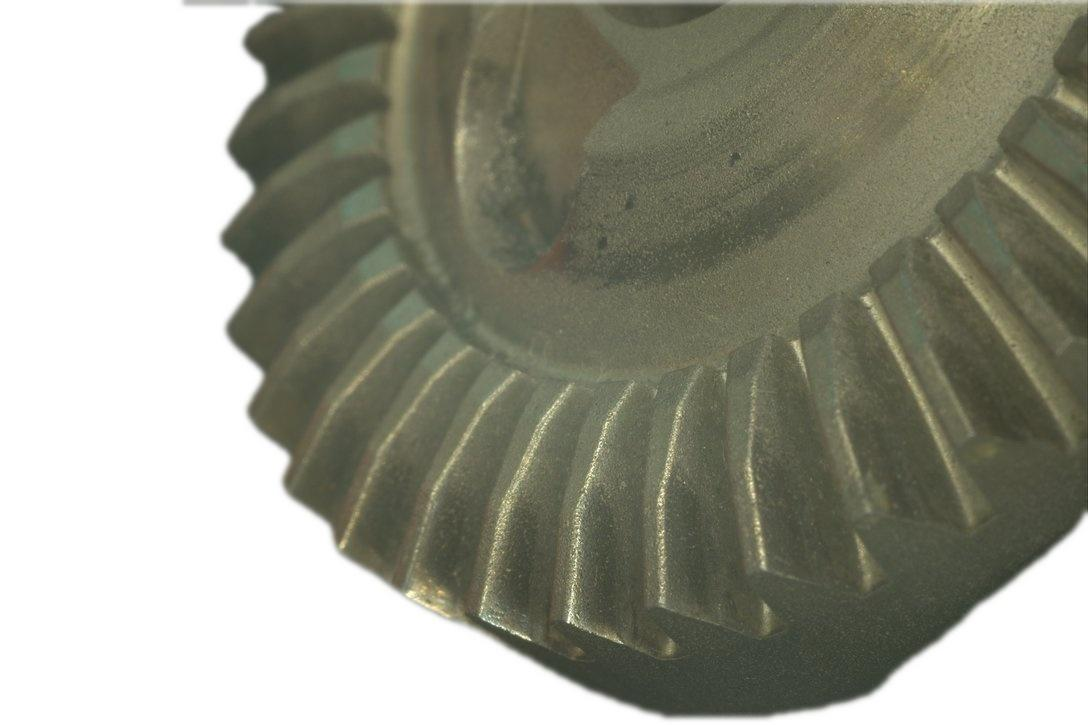defect: (468, 611, 553, 657), (403, 578, 464, 617), (569, 616, 631, 650)
